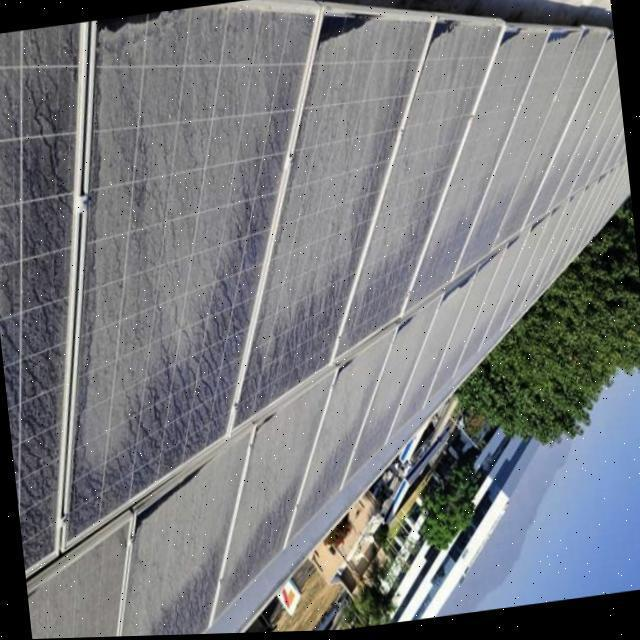Surface Contaminant: (0, 0, 640, 640), (74, 1, 320, 497), (339, 161, 629, 494), (232, 13, 437, 429), (332, 20, 504, 360), (452, 27, 583, 282), (120, 426, 255, 637), (285, 326, 397, 547)
